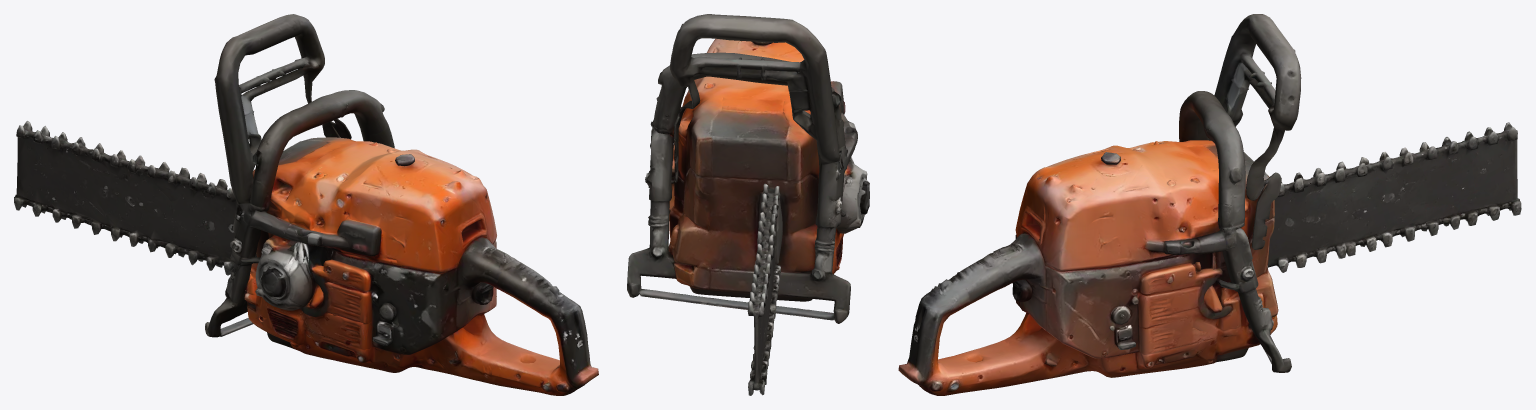
The model's file is rn_chainsaw.glb.
The picture shows the model from 3 angles, left to right: view 1: azimuth 30°, elevation 25°; view 2: azimuth 150°, elevation 25°; view 3: azimuth 270°, elevation 25°; orthographic projection. The views are drawn at different scales.
Visible parts, largest first — view 1: tripo_node_816ce3d6-07ec-438f-8edf-478d113052ff; view 2: tripo_node_816ce3d6-07ec-438f-8edf-478d113052ff; view 3: tripo_node_816ce3d6-07ec-438f-8edf-478d113052ff.
Boxes of the visible parts, <box> form: tripo_node_816ce3d6-07ec-438f-8edf-478d113052ff: <box>14,14,598,395</box>; tripo_node_816ce3d6-07ec-438f-8edf-478d113052ff: <box>627,14,869,395</box>; tripo_node_816ce3d6-07ec-438f-8edf-478d113052ff: <box>898,14,1521,395</box>.
Bounding box in the file's own units: 0.5544 × 0.5148 × 0.981.
Materials: 1 (1 with a texture image).
